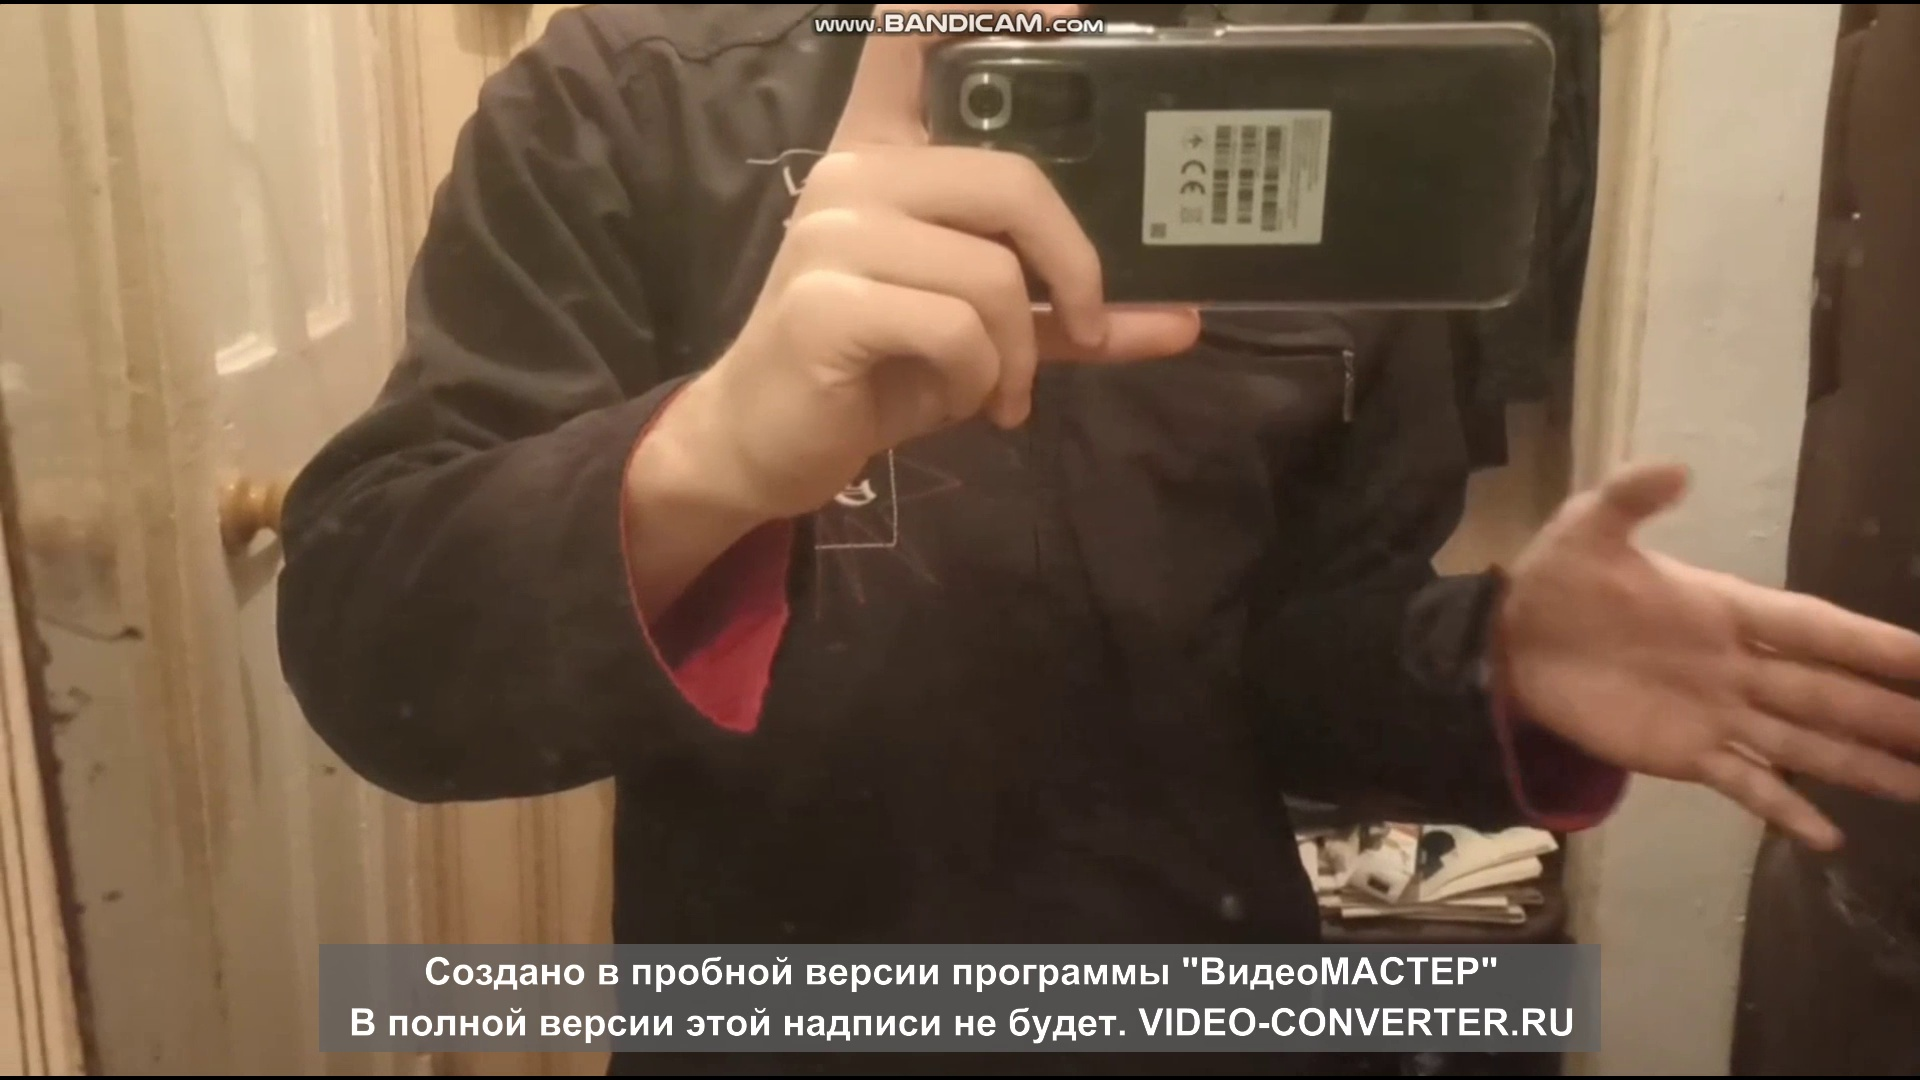Ладонь: (1505, 456, 1920, 851)
